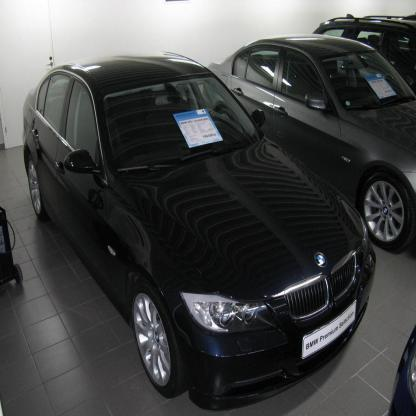Car: (25, 19, 408, 416), (203, 31, 416, 255), (309, 11, 416, 98), (388, 324, 416, 416)
